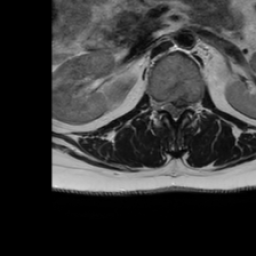CCS_normal: (170, 91, 177, 128)
LFS_stenosis: (185, 91, 193, 117)
LLS_stenosis: (177, 92, 185, 119)
RFS_normal: (155, 90, 163, 117)
RLS_normal: (163, 91, 170, 119)
